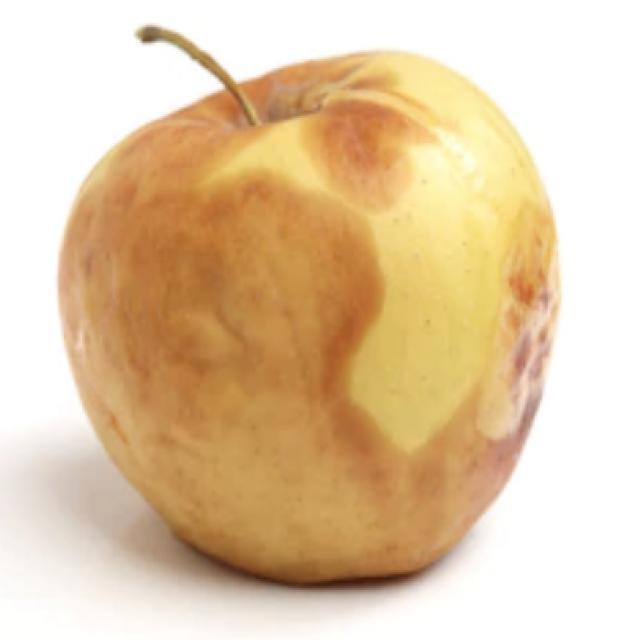Rotten: (53, 43, 565, 582)
